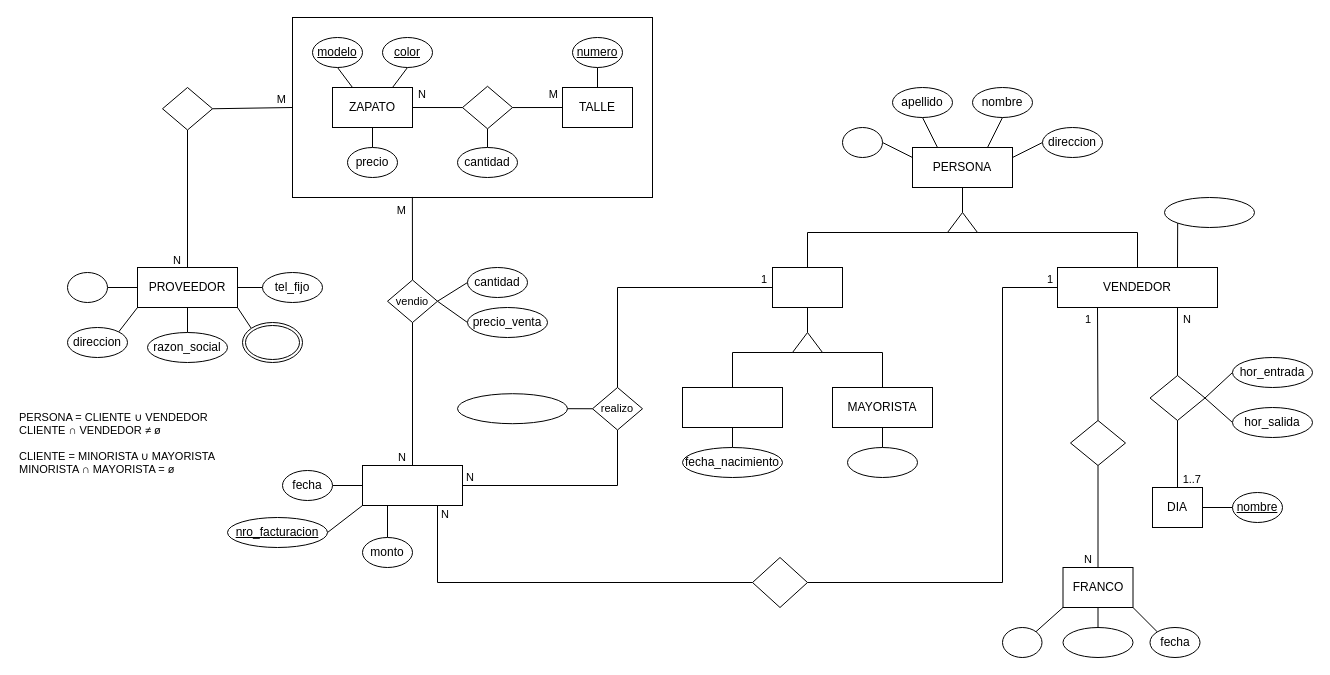
Some shapes in this 1330 by 675 pixel diagram are drawn without their labels. Each missing label, with the centre of its shape:
"celuares" goes at (272,342).
"CLIENTE" goes at (807,287).
"cuit" goes at (87,287).
"descuento" goes at (882,462).
"descuento_venta" goes at (512,408).
"dni" goes at (862,142).
"efectua" goes at (780,582).
"horario" goes at (1177,397).
"MINORISTA" goes at (732,407).
"nro" goes at (1022,642).
"nro_vendedor" goes at (1209,212).
"observacion" goes at (1097,642).
"posee" goes at (1098,443).
"provee" goes at (187,108).
"tiene" goes at (487,107).
"VENTA" goes at (412,485).
